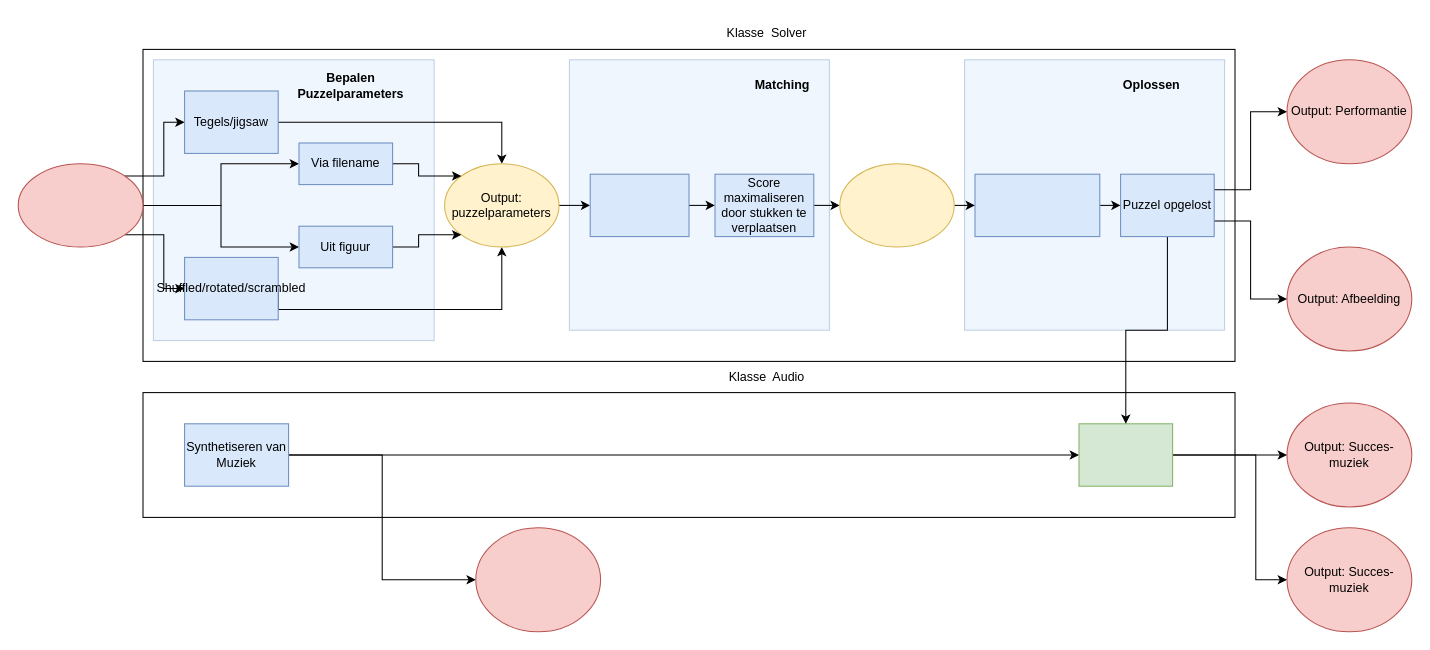
Image size: 1430x650. Some labels were removed from this diagram. Each missing label, with the box of its shape:
Input: Puzzel: (17, 163, 143, 247)
Is score gemaximaliseerd?: (974, 173, 1100, 237)
Output: potentieel resultaat: (839, 163, 954, 247)
Output: wacht-muziek: (475, 527, 601, 632)
Puzzel geslaagd of gefaald?: (1078, 423, 1173, 486)
Score t.o.v. buren bepalen op basis van type: (589, 173, 689, 237)
